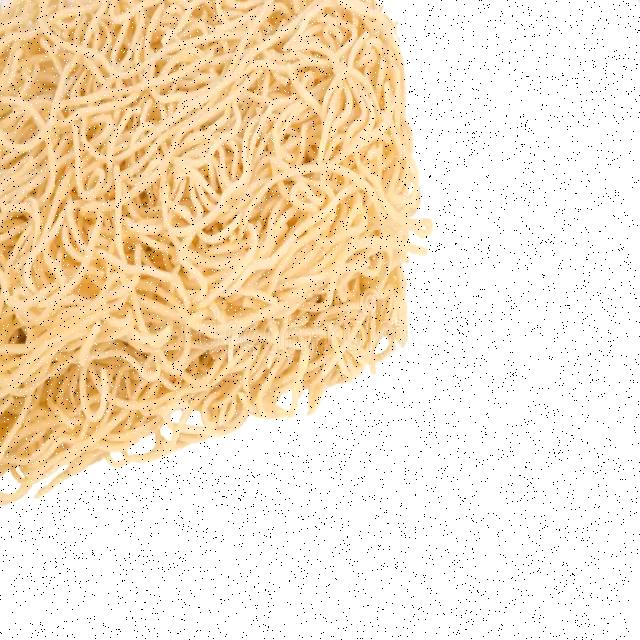Noodles: (6, 7, 407, 431)
